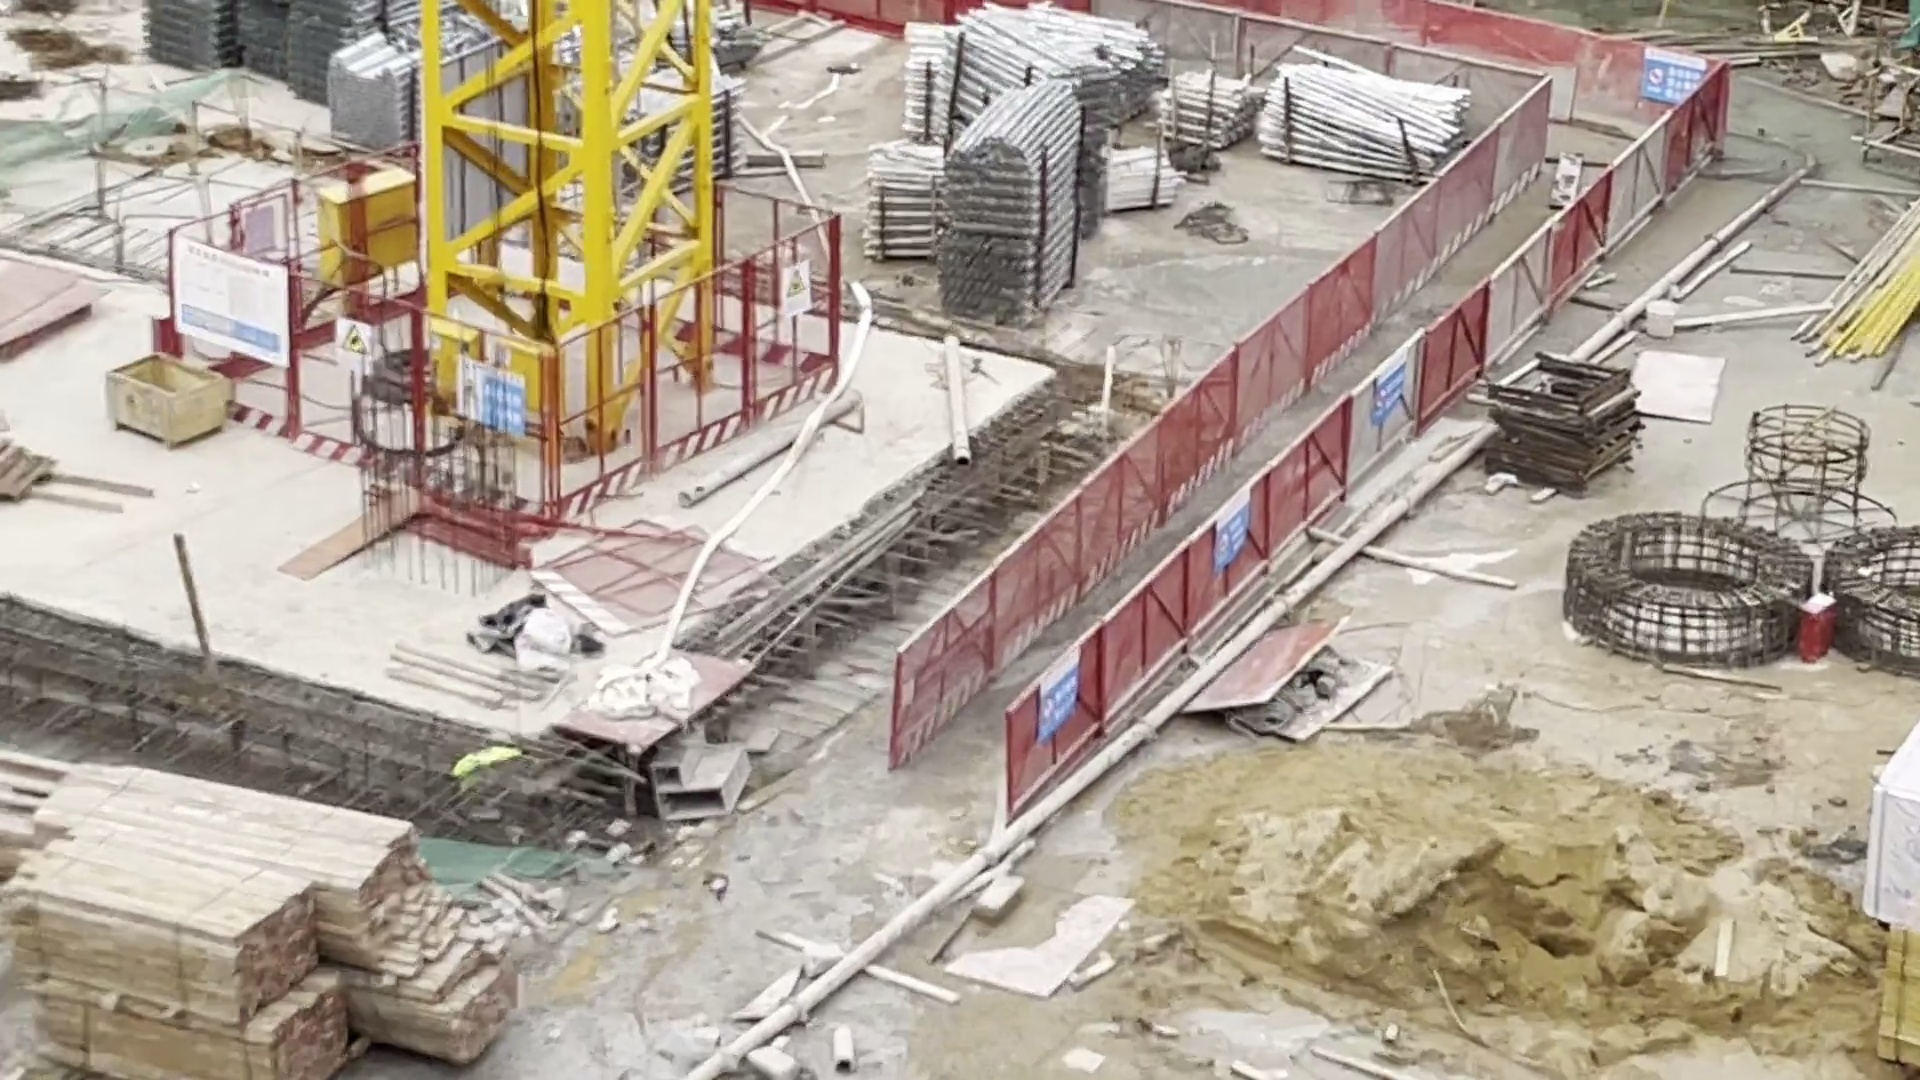ebox: (289, 179, 462, 302)
fence: (136, 109, 868, 545), (880, 233, 1414, 771), (1402, 3, 1760, 411)
scaffold: (907, 3, 1166, 131), (930, 123, 1080, 328), (1275, 59, 1441, 173), (322, 45, 414, 149), (287, 4, 375, 113), (1164, 67, 1261, 164), (865, 156, 938, 281), (141, 1, 235, 76), (1110, 136, 1193, 218), (229, 1, 277, 82)
slogan: (160, 232, 318, 388), (1197, 481, 1329, 582), (435, 356, 553, 436), (1630, 50, 1713, 160), (1014, 646, 1100, 735), (782, 256, 847, 349), (1364, 357, 1414, 415), (343, 314, 377, 368)
wood: (285, 796, 516, 1054), (7, 847, 309, 1004), (22, 975, 342, 1080)
